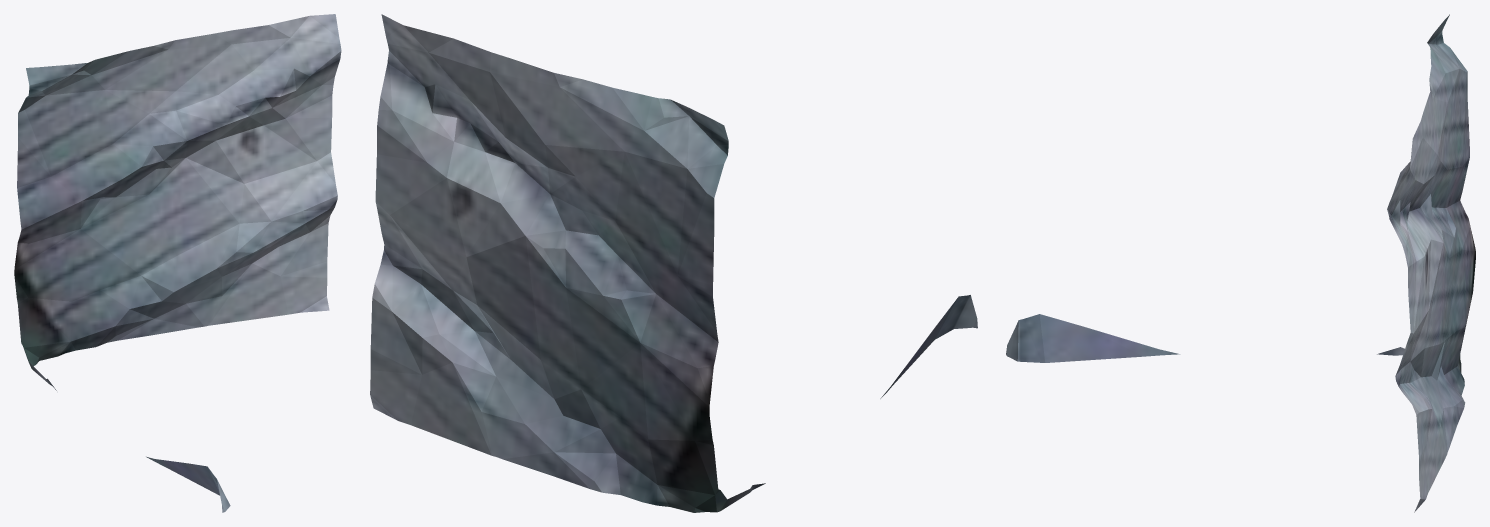
The model's file is Tile_+003_+008_L24_0032020.obj.
3 views of the same model, side by side, from view 1: azimuth 30°, elevation 25°; view 2: azimuth 150°, elevation 25°; view 3: azimuth 270°, elevation 25° (orthographic). The views are drawn at different scales.
Bounding box in the file's own units: 0.9531 × 0.9531 × 1.19.
1 material, 1 textured.
